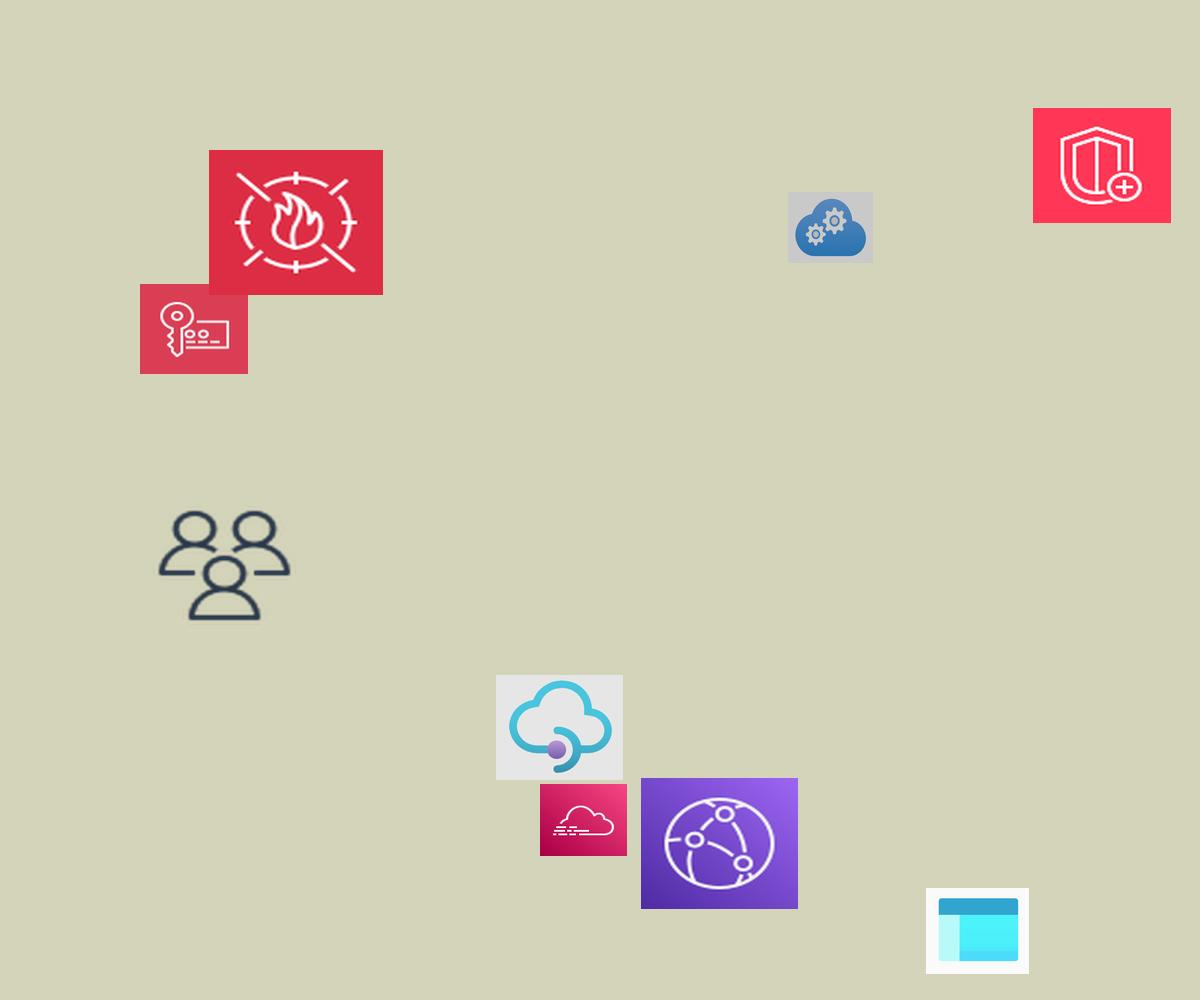AWS-CloudFront: (641, 778, 798, 909)
AWS-CloudTrail: (540, 784, 627, 856)
AWS-Key-Management-Service: (140, 284, 248, 374)
AWS-Res_Users: (153, 506, 296, 625)
AWS-Shield: (1033, 108, 1171, 223)
AWS-WAF: (209, 150, 383, 295)
Azure_api_gateway: (496, 675, 623, 780)
Azure_cloud_services: (788, 192, 873, 263)
Azure_management-portal: (926, 888, 1029, 974)
